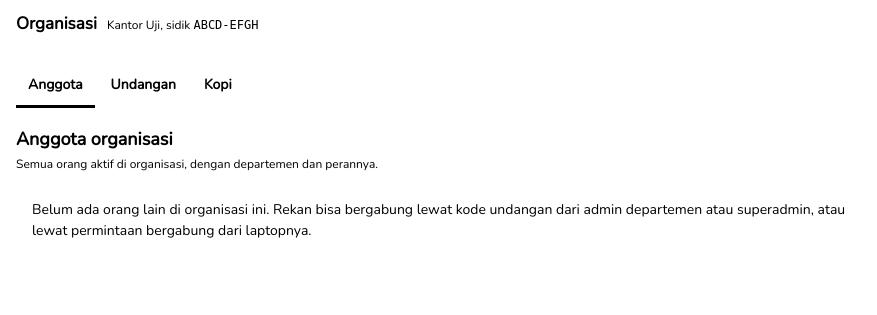
Scenario: Organisasi: tab per peran › anggota biasa tanpa departemen melihat Anggota dan Undangan untuk memakai kode
This screenshot has width=877, height=315.
Expected: the navigation bar named "Bagian organisasi" is shown, x1=16 y1=64 x2=244 y2=108
Click the button "Undangan" at (143, 86), box x1=99 y1=64 x2=188 y2=108
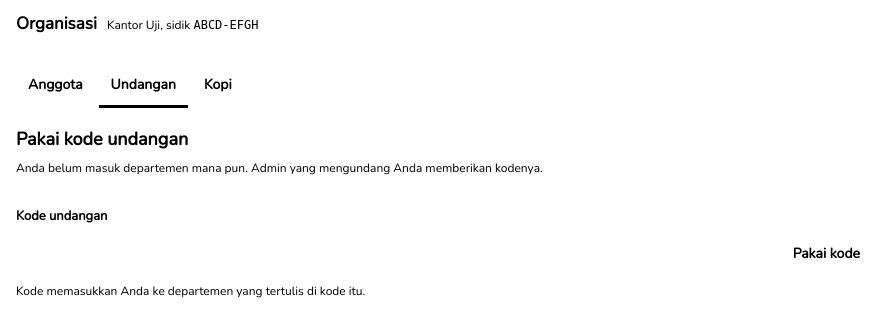
Now the heading "Pakai kode undangan" is shown, box x1=16 y1=126 x2=188 y2=150
